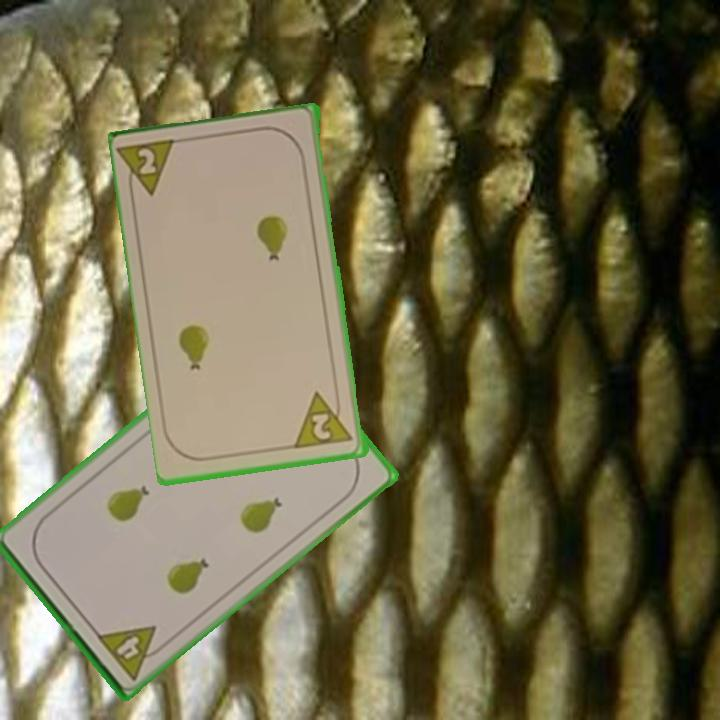2p: (117, 135, 182, 203), (293, 387, 357, 452)
4p: (92, 621, 170, 683)
